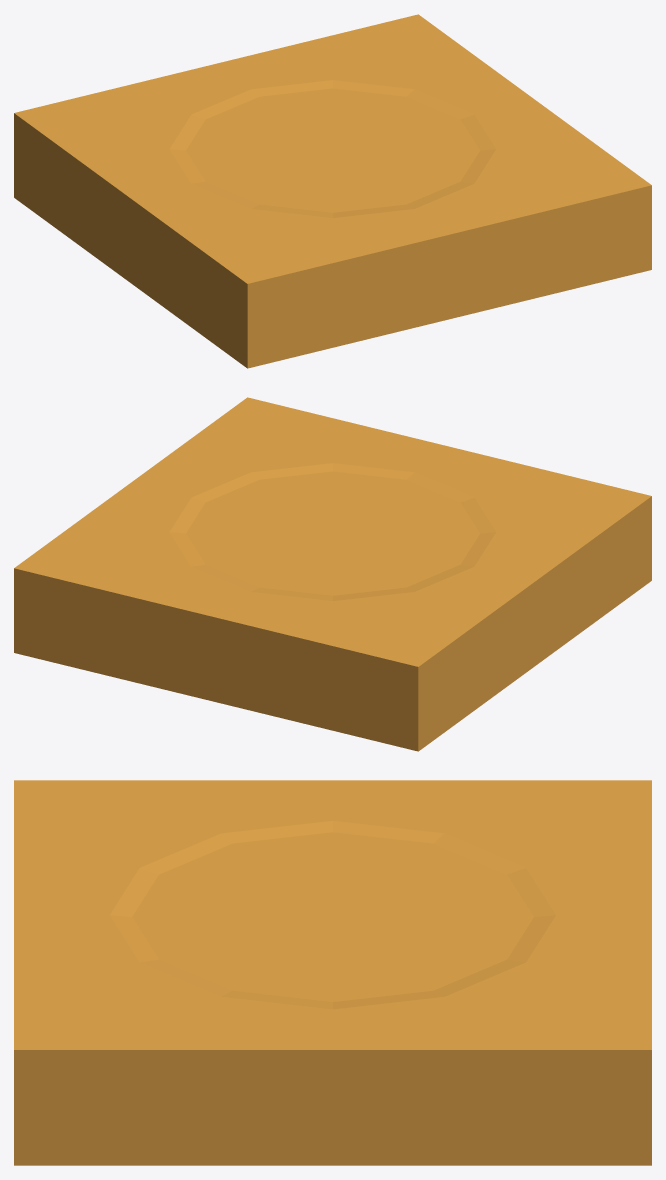
The model's file is tile-golf-sand.glb.
The picture shows the model from 3 angles, top to bottom: view 1: azimuth 30°, elevation 25°; view 2: azimuth 150°, elevation 25°; view 3: azimuth 270°, elevation 25°; orthographic projection. The views are drawn at different scales.
Parts seen in each view (by area): view 1: tile-golf-sand; view 2: tile-golf-sand; view 3: tile-golf-sand.
Part boxes in pixels (x1,y1,x2,y2): tile-golf-sand: (14, 14, 651, 368); tile-golf-sand: (14, 397, 651, 751); tile-golf-sand: (14, 780, 651, 1165).
Bounding box in the file's own units: 30 × 6 × 30.
